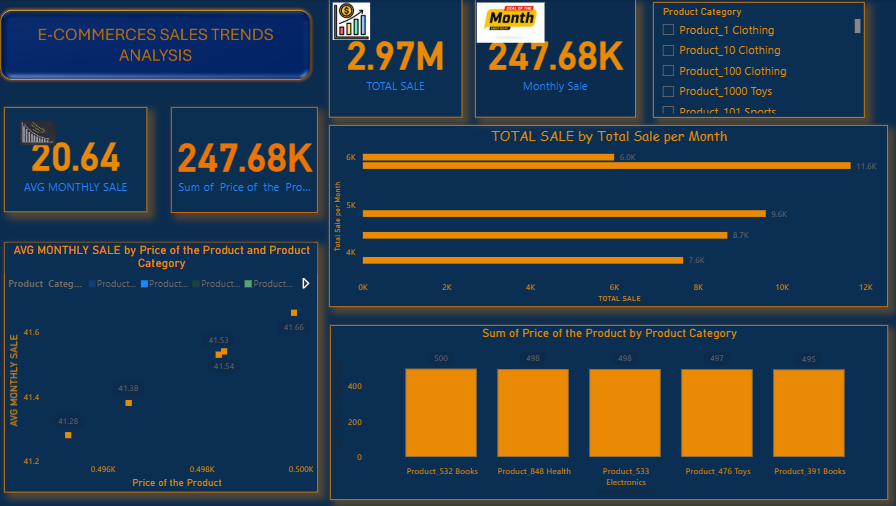

The dashboard page shown, as its layout file describes it:
{"tool":"powerbi","page":{"name":"Home","canvas":[1280,720],"ordinal":0},"visuals":[{"type":"slicer","fields":{"Values":["Table1_2.Product  Category"]},"box":[936,4.3,299.5,164.2],"z":0},{"type":"areaChart","fields":{"Category":["Table1_2. Price of  the  Product "],"Series":["Table1_2.Product  Category"],"Y":["Dax Table.AVG MONTHLY SALE"]},"box":[15.7,366.1,444.8,354.7],"z":1000},{"type":"card","fields":{"Values":["Dax Table.AVG MONTHLY SALE"]},"box":[15.6,153.1,202.7,148.8],"z":2000},{"type":"card","fields":{"Values":["Dax Table.TOTAL SALE"]},"box":[476.6,0,188.6,168.5],"z":3000},{"type":"barChart","fields":{"Category":["Table1_2.Total Sale per Month"],"Y":["Dax Table.TOTAL SALE"]},"box":[477.1,189.8,802.9,273.8],"z":4000},{"type":"clusteredColumnChart","fields":{"Category":["Table1_2.Product  Category"],"Y":["Sum(Table1_2. Price of  the  Product )"]},"box":[477.7,473.4,802.3,247.4],"z":5000},{"type":"card","fields":{"Values":["Dax Table.Monthly Sale"]},"box":[682.6,0,227.5,168.5],"z":6000},{"type":"image","box":[0,66.6,171.5,48.2],"z":7000},{"type":"image","box":[369,0,278.9,62.9],"z":8000},{"type":"image","box":[647.9,0,171.6,67.2],"z":9000},{"type":"image","box":[28.3,167.2,70.9,45.4],"z":10000},{"type":"image","box":[0,0,460.6,130.4],"z":11000},{"type":"card","fields":{"Values":["Sum(Table1_2. Price of  the  Product )"]},"box":[252.3,153.1,208.3,150.2],"z":12000}]}

Visuals, with their boxes in screenshot pixels (x1, y1, x2, y2), scaled from the page's 1280x720 canvas onto the 896x506 screenshot:
slicer - Table1_2.Product  Category: bbox(655, 3, 865, 118)
areaChart - Table1_2. Price of  the  Product  x Table1_2.Product  Category: bbox(11, 257, 322, 505)
card - Dax Table.AVG MONTHLY SALE: bbox(11, 108, 153, 212)
card - Dax Table.TOTAL SALE: bbox(334, 0, 466, 118)
barChart - Table1_2.Total Sale per Month x Dax Table.TOTAL SALE: bbox(334, 133, 895, 326)
clusteredColumnChart - Table1_2.Product  Category x Sum(Table1_2. Price of  the  Product ): bbox(334, 333, 895, 505)
card - Dax Table.Monthly Sale: bbox(478, 0, 637, 118)
image: bbox(0, 47, 120, 81)
image: bbox(258, 0, 454, 44)
image: bbox(454, 0, 574, 47)
image: bbox(20, 118, 69, 149)
image: bbox(0, 0, 322, 92)
card - Sum(Table1_2. Price of  the  Product ): bbox(177, 108, 322, 213)
